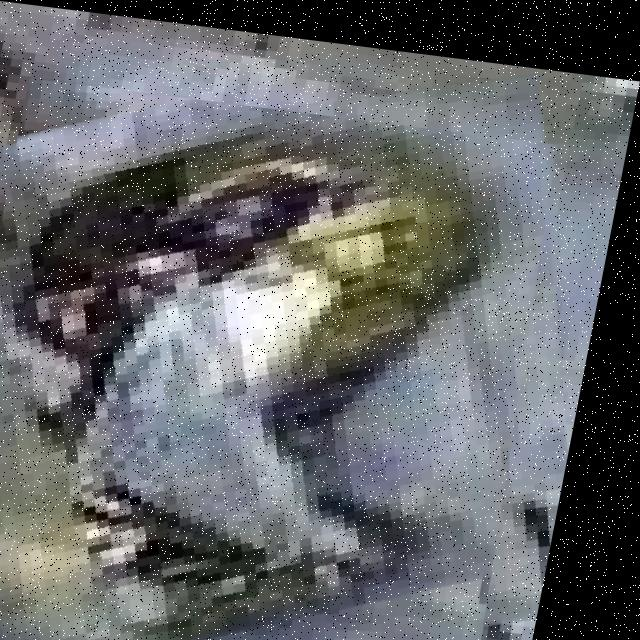can: (0, 96, 554, 640)
